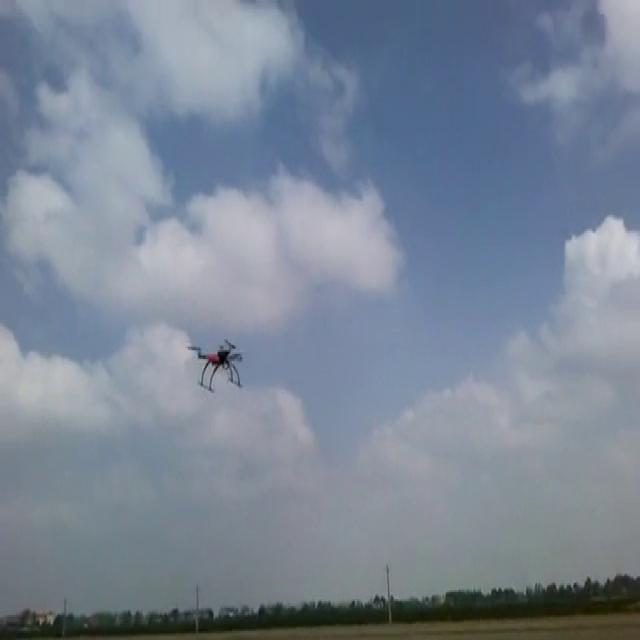drone: (185, 334, 242, 393)
